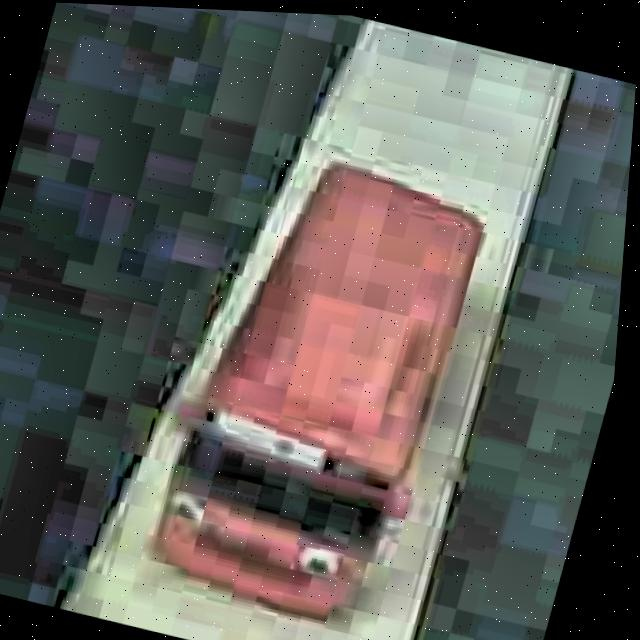bus: (126, 133, 502, 640)
